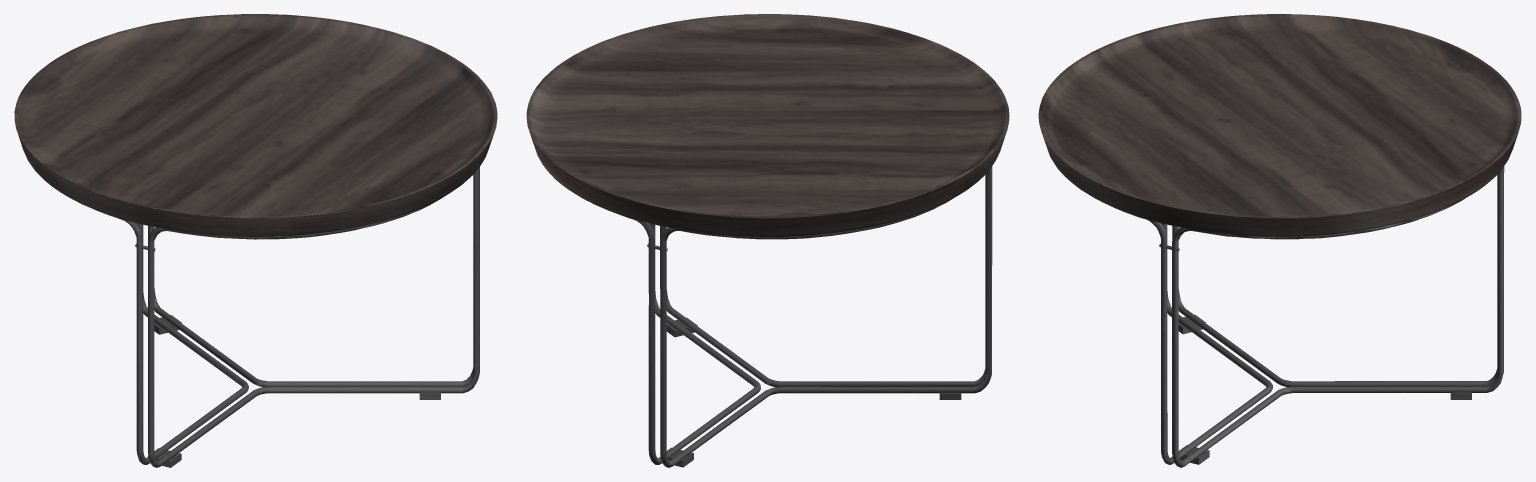
File: raw_model.obj
3 views of the same model, side by side, from view 1: azimuth 30°, elevation 25°; view 2: azimuth 150°, elevation 25°; view 3: azimuth 270°, elevation 25° (orthographic).
Parts seen in each view (by area): view 1: solid_001, solid_002; view 2: solid_001, solid_002; view 3: solid_001, solid_002.
Part boxes in pixels (bbox=[...]): solid_001: bbox=[14, 14, 497, 236]; solid_002: bbox=[94, 167, 479, 467]; solid_001: bbox=[526, 14, 1009, 236]; solid_002: bbox=[595, 166, 992, 467]; solid_001: bbox=[1038, 14, 1521, 236]; solid_002: bbox=[1102, 166, 1504, 467].
Size of the model in its own units: 0.6331 by 0.403 by 0.6333.
1 material, 1 textured.
